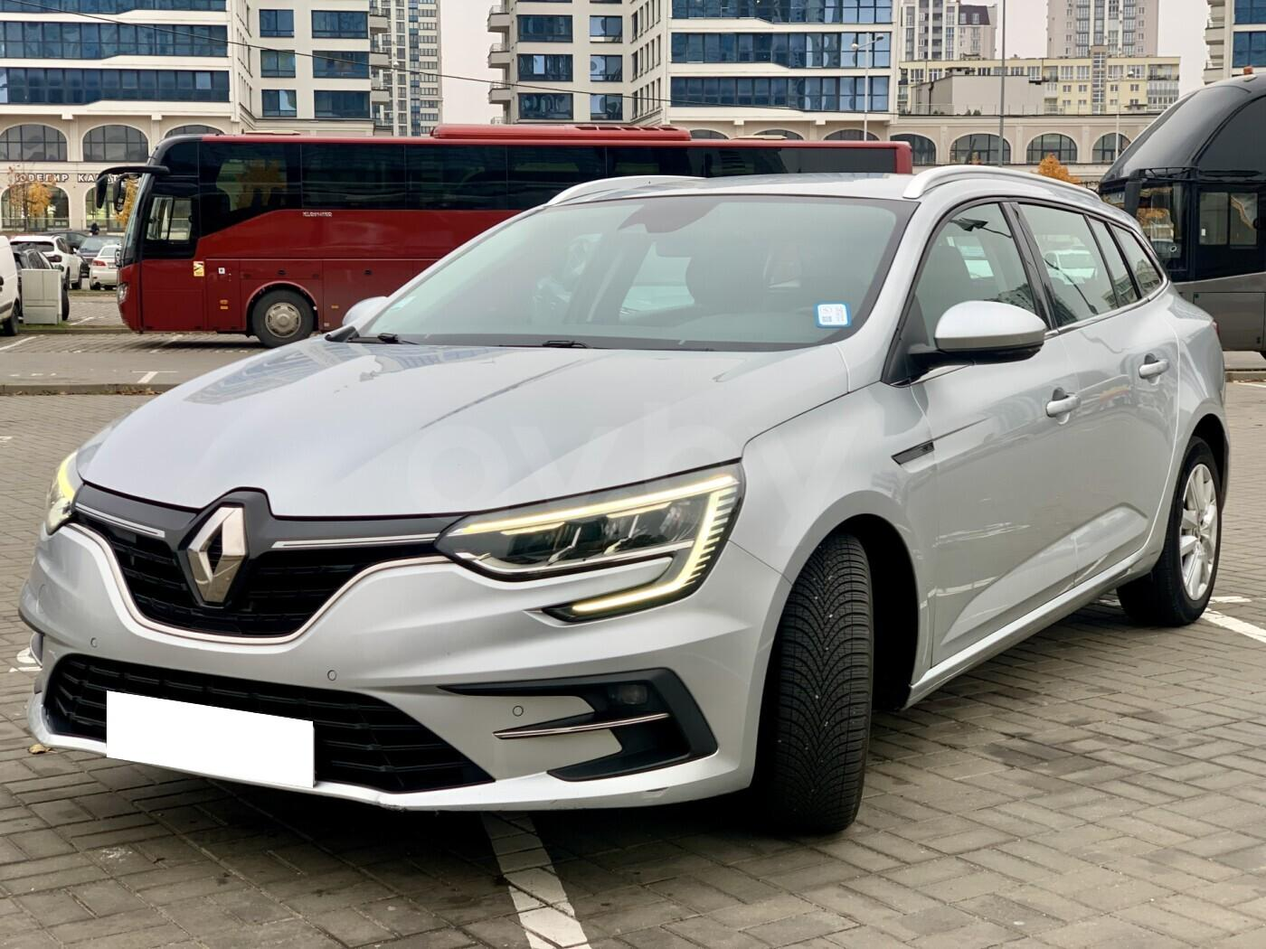Megane_2020: (14, 169, 1240, 829)
